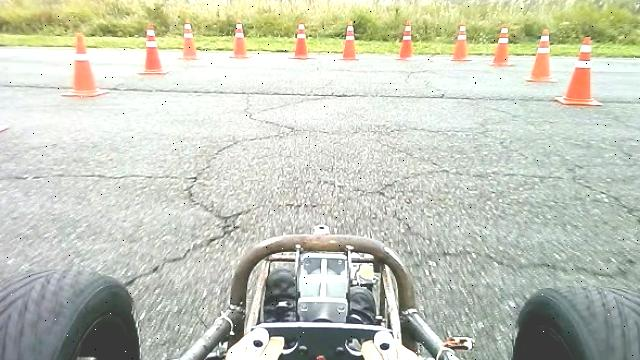red cone: (556, 35, 603, 106), (60, 32, 110, 96), (524, 28, 559, 82), (137, 24, 170, 74), (288, 23, 316, 59), (489, 28, 513, 66), (177, 21, 200, 60), (229, 21, 252, 58), (450, 24, 473, 61), (339, 20, 360, 60), (396, 20, 416, 60)
